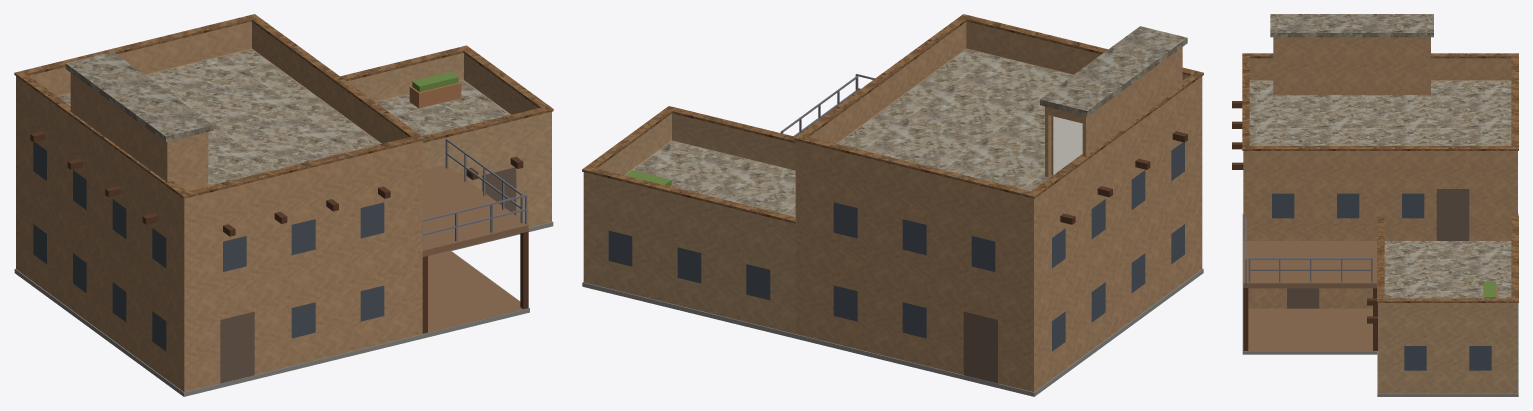
Rendered from cr-adobe-courtyard.towns-v1.lod1.glb.
3 renders of one model, left to right at view 1: azimuth 30°, elevation 25°; view 2: azimuth 150°, elevation 25°; view 3: azimuth 270°, elevation 25°, orthographic. The views are drawn at different scales.
Visible parts, largest first — view 1: cr-adobe-courtyard; view 2: cr-adobe-courtyard; view 3: cr-adobe-courtyard.
Part boxes in pixels (bbox=[...]): cr-adobe-courtyard: bbox=[14, 14, 553, 396]; cr-adobe-courtyard: bbox=[582, 14, 1203, 396]; cr-adobe-courtyard: bbox=[1232, 14, 1518, 396].
Size of the model in its own units: 17.49 by 8.95 by 11.49.
3 materials, 2 textured.
